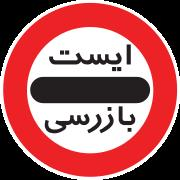Stop: (9, 17, 171, 171)
